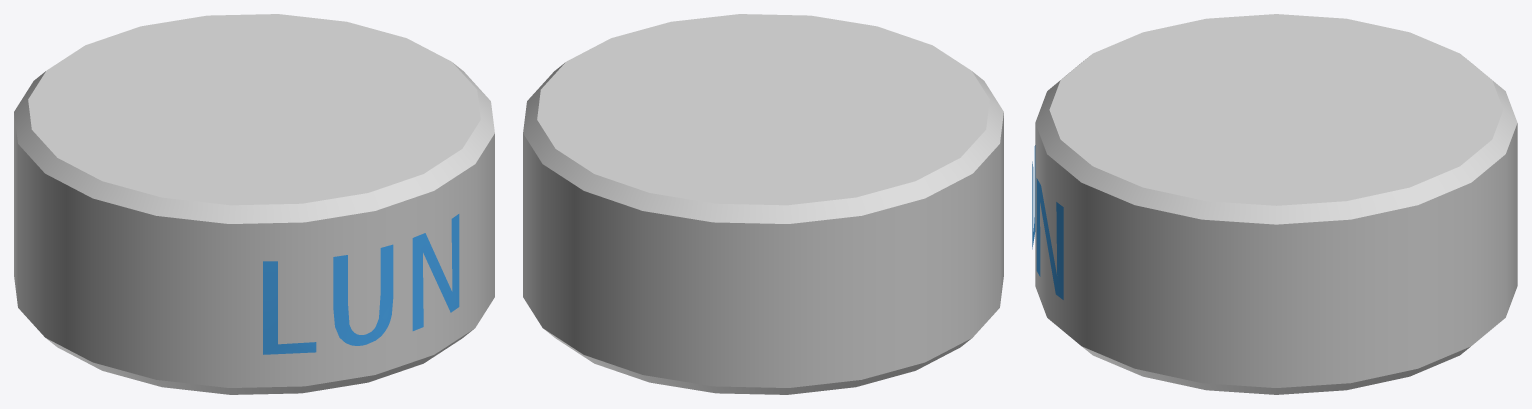
The model's file is LUN.obj.
3 views of the same model, side by side, from view 1: azimuth 30°, elevation 25°; view 2: azimuth 150°, elevation 25°; view 3: azimuth 270°, elevation 25° (orthographic).
Visible parts, largest first — view 1: LUN; view 2: LUN; view 3: LUN.
Part boxes in pixels (box(x1,y1,x2,y2)): LUN: box(14, 14, 494, 394); LUN: box(523, 14, 1003, 394); LUN: box(1032, 14, 1517, 394).
Size of the model in its own units: 1.09 by 0.4708 by 1.09.
